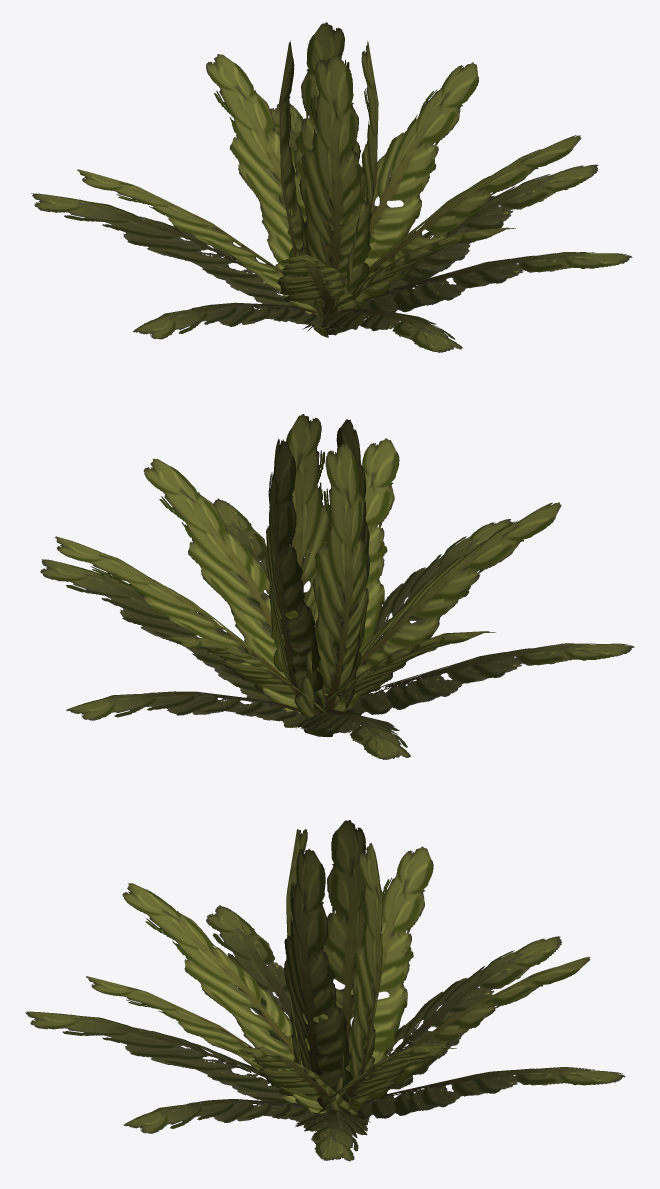
File: TropicalShrub.fbx
3 views of the same model, one above another, from view 1: azimuth 30°, elevation 25°; view 2: azimuth 150°, elevation 25°; view 3: azimuth 270°, elevation 25° (orthographic). The views are drawn at different scales.
Visible parts, largest first — view 1: pPlane53; view 2: pPlane53; view 3: pPlane53.
Boxes of the visible parts, box(x1,y1,x2,y2) form: pPlane53: box(31, 22, 632, 352); pPlane53: box(40, 414, 634, 759); pPlane53: box(25, 820, 624, 1161).
Bounding box in the file's own units: 1.9 × 1 × 1.91.
